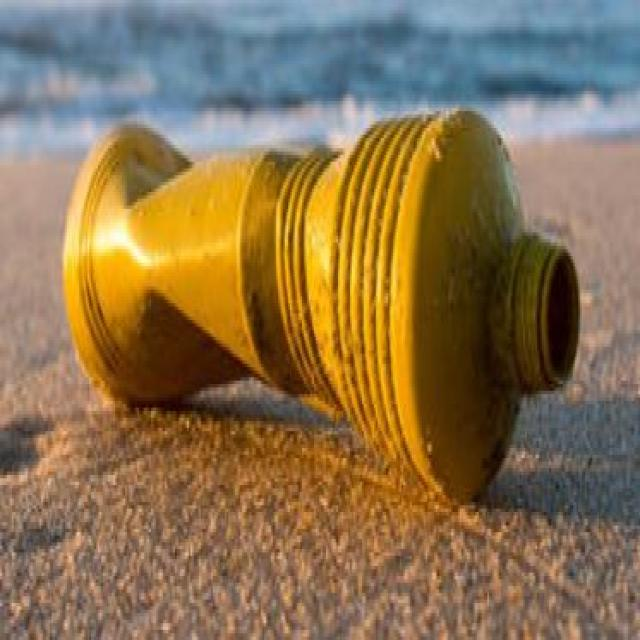general: (60, 104, 580, 508)
